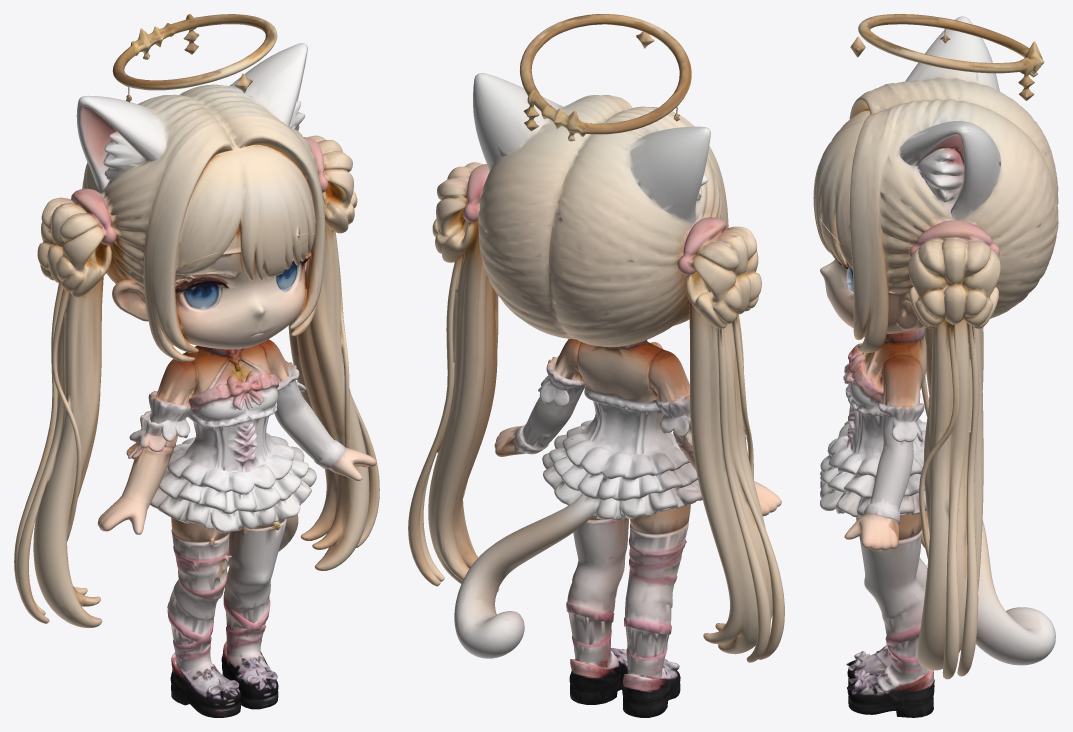
File: vivian_qver.glb
3 views of the same model, side by side, from view 1: azimuth 30°, elevation 25°; view 2: azimuth 150°, elevation 25°; view 3: azimuth 270°, elevation 25° (orthographic). The views are drawn at different scales.
Visible parts, largest first — view 1: node_0; view 2: node_0; view 3: node_0.
Part boxes in pixels (x1,y1,x2,y2): node_0: [14, 14, 379, 717]; node_0: [408, 14, 784, 717]; node_0: [813, 14, 1058, 717].
Bounding box in the file's own units: 0.6788 × 1.17 × 0.3845.
1 material, 1 textured.
